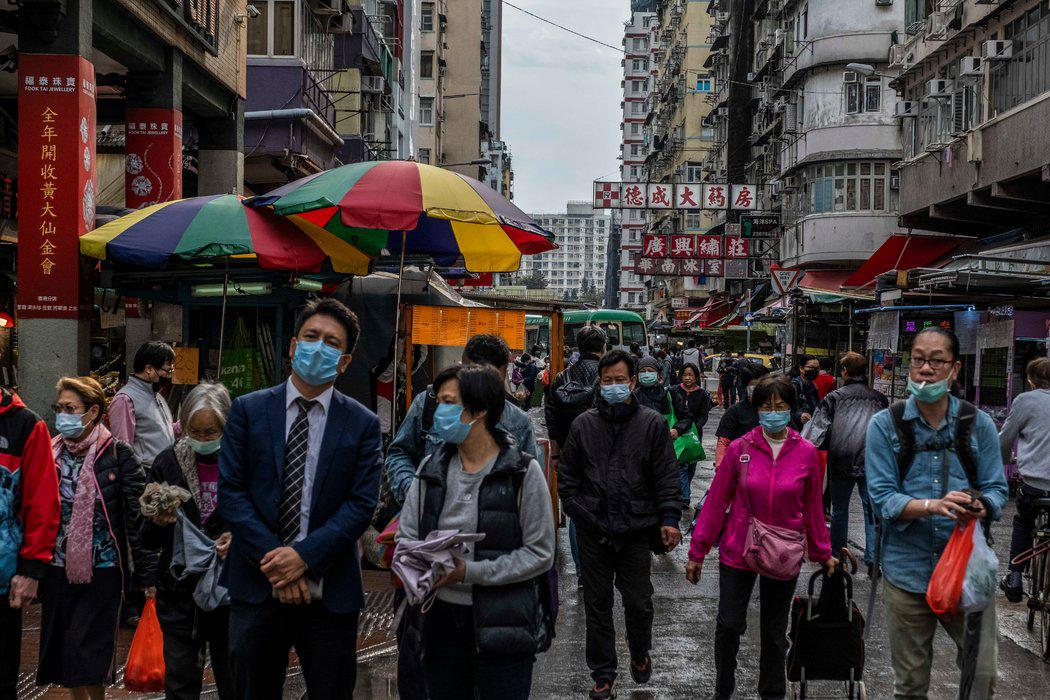mask: (293, 323, 345, 386), (431, 390, 471, 447), (54, 397, 87, 438), (184, 421, 221, 456), (756, 399, 792, 434), (597, 371, 630, 409), (154, 366, 173, 393), (638, 367, 657, 386), (803, 362, 820, 380)
none: (681, 368, 696, 386)
poor: (907, 344, 952, 400)
